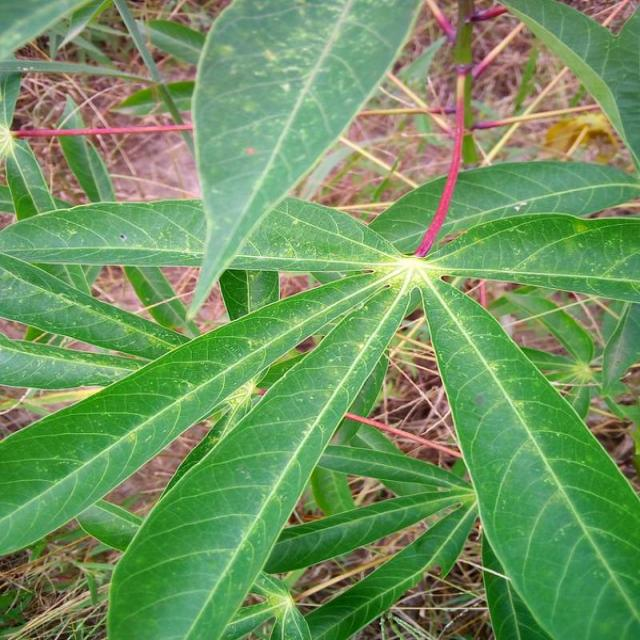cassava leaf: (1, 1, 638, 638), (104, 270, 414, 638), (417, 272, 639, 638), (185, 0, 423, 322)
